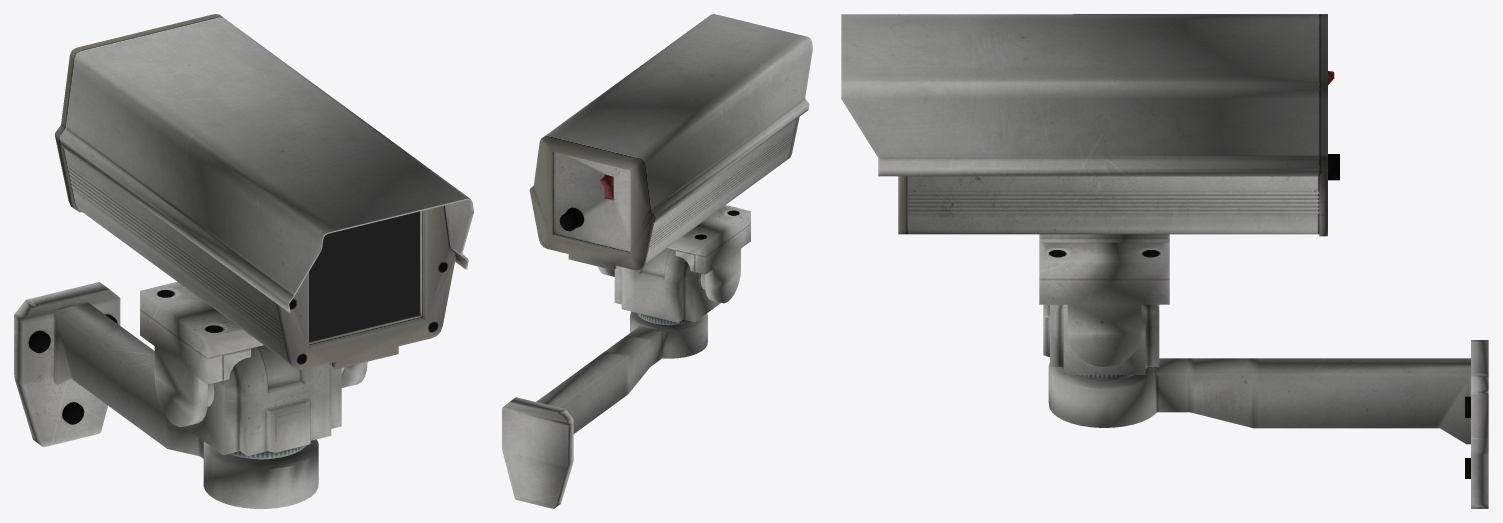
3 views of the same model, side by side, from view 1: azimuth 30°, elevation 25°; view 2: azimuth 150°, elevation 25°; view 3: azimuth 270°, elevation 25° (orthographic). The views are drawn at different scales.
Parts seen in each view (by area): view 1: Object_3, Object_2; view 2: Object_3; view 3: Object_3.
Part boxes in pixels (x1=…): Object_3: x1=14, y1=14, x2=473, y2=508; Object_2: x1=309, y1=211, x2=419, y2=342; Object_3: x1=502, y1=14, x2=812, y2=508; Object_3: x1=841, y1=14, x2=1488, y2=508.
Size of the model in its own units: 31.33 by 76.48 by 100.
2 materials, 2 textured.
